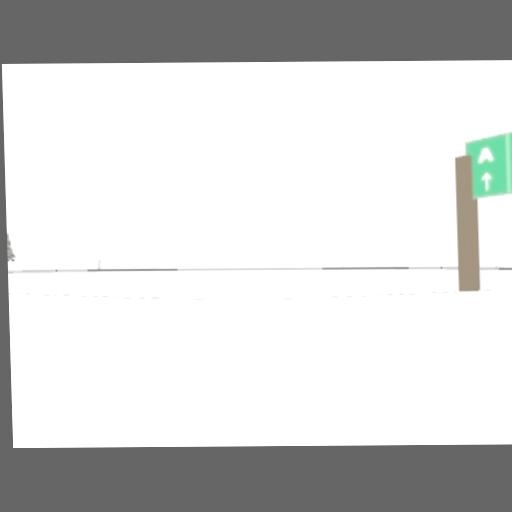A: (476, 147, 495, 166)
Straight: (481, 174, 494, 191)
